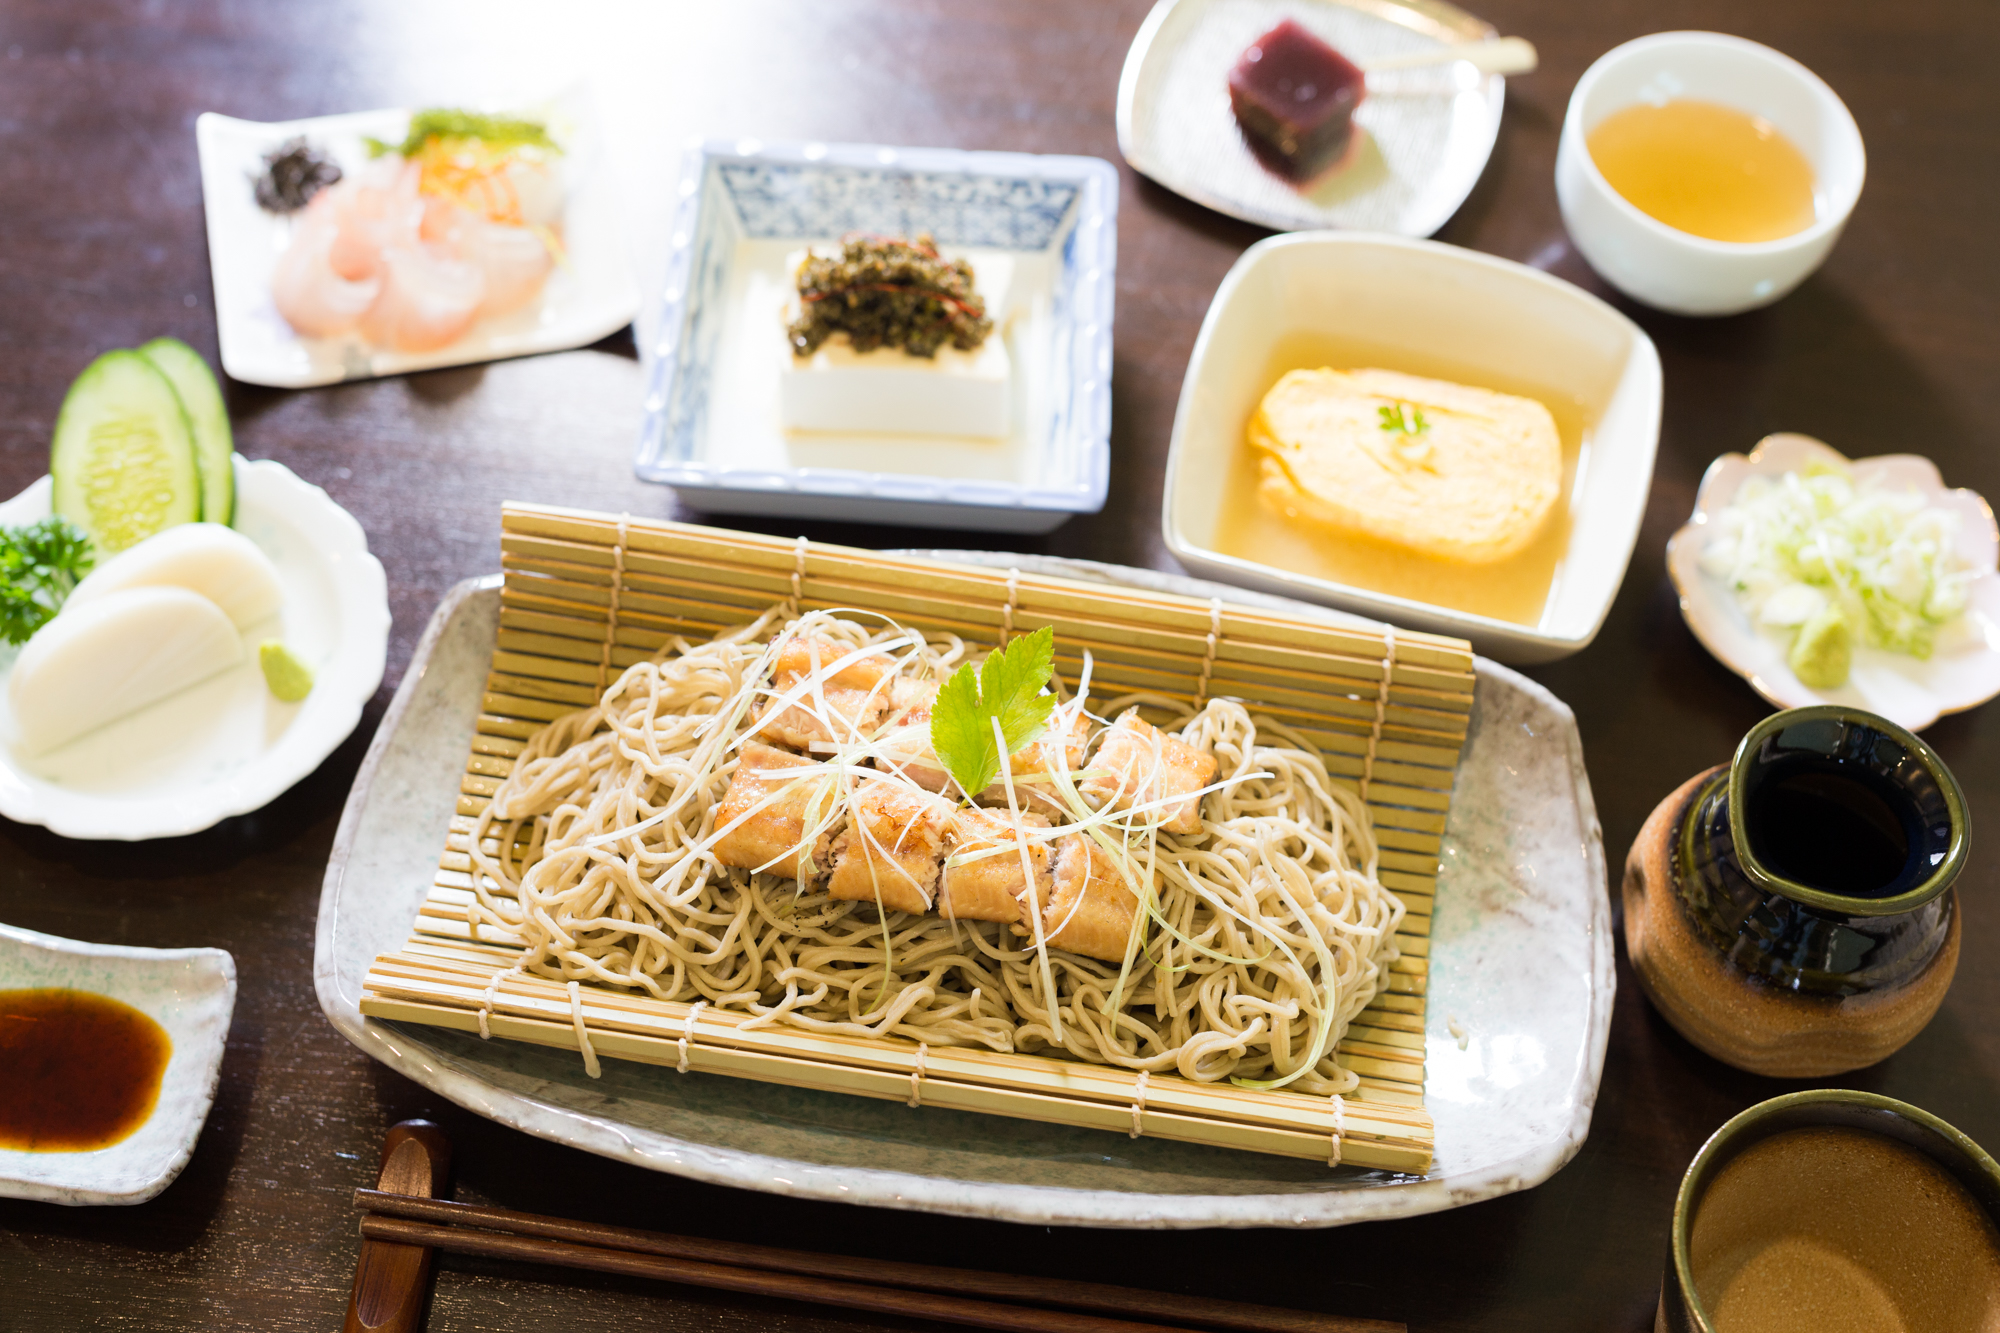Soba: (498, 611, 1475, 1119)
